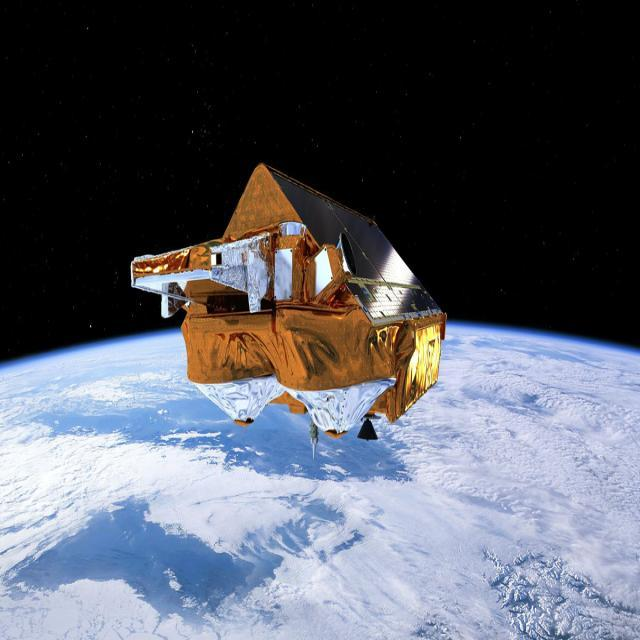sat: (120, 143, 460, 472)
